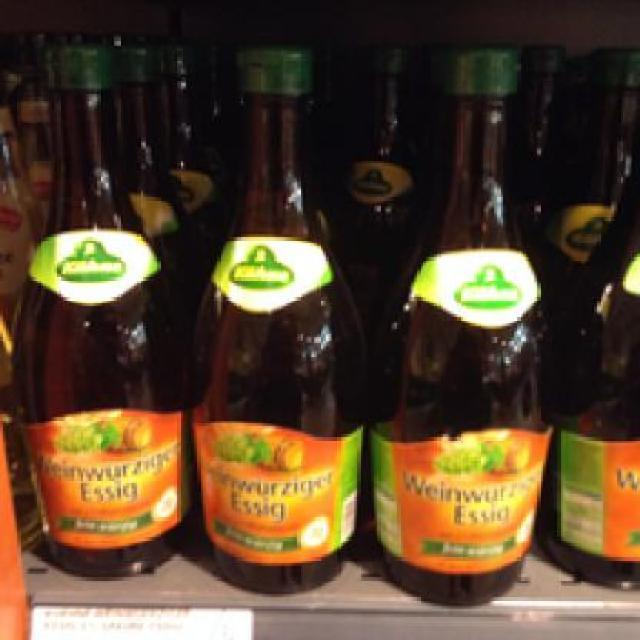Vinegar: (372, 46, 554, 603), (14, 37, 200, 580), (191, 46, 360, 594), (560, 99, 637, 592)
